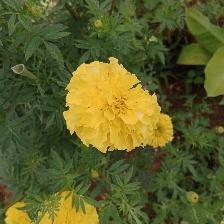marigold: (62, 59, 155, 155), (42, 189, 102, 224), (145, 110, 177, 152), (6, 201, 34, 224)
